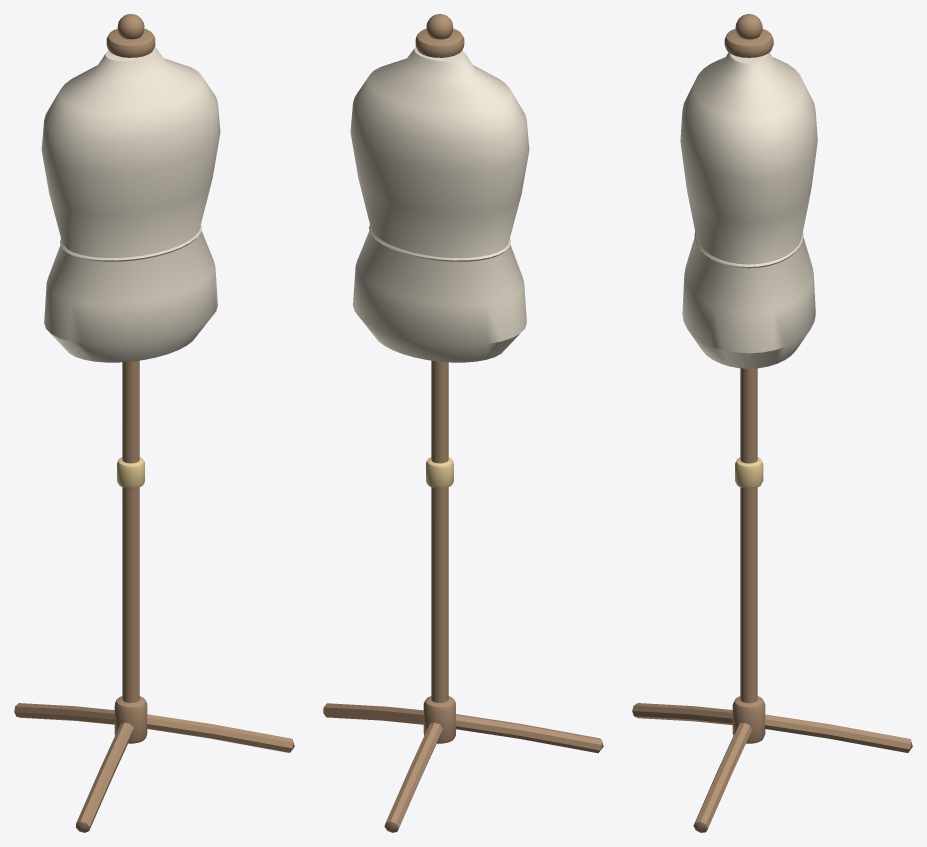
File: dress_form.glb
The picture shows the model from 3 angles, left to right: view 1: azimuth 30°, elevation 25°; view 2: azimuth 150°, elevation 25°; view 3: azimuth 270°, elevation 25°; orthographic projection.
Parts seen in each view (by area): view 1: dress_form; view 2: dress_form; view 3: dress_form.
Part boxes in pixels (bbox=[...]): dress_form: bbox=[14, 14, 294, 832]; dress_form: bbox=[323, 14, 603, 832]; dress_form: bbox=[632, 14, 912, 832].
Bounding box in the file's own units: 0.524 × 1.52 × 0.5149.
